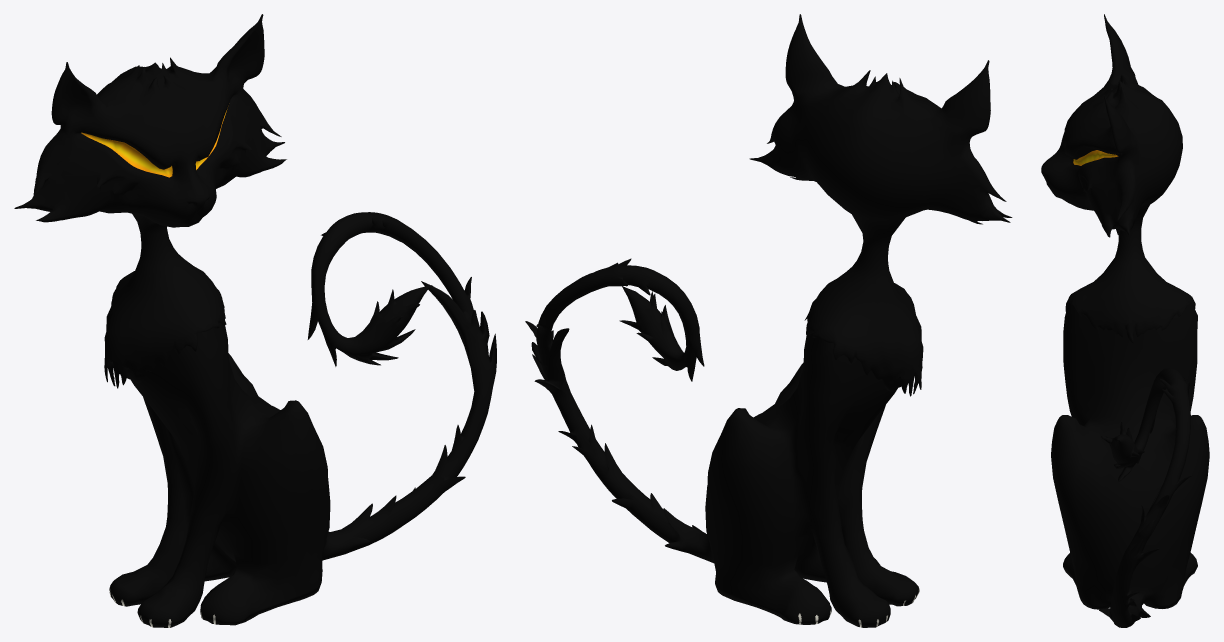
The model's file is mycat3d.glb.
3 renders of one model, left to right at view 1: azimuth 30°, elevation 25°; view 2: azimuth 150°, elevation 25°; view 3: azimuth 270°, elevation 25°, orthographic. The views are drawn at different scales.
Parts seen in each view (by area): view 1: node_id38; view 2: node_id38; view 3: node_id38.
Boxes of the visible parts, x1,y1,x2,y2 form: node_id38: (14, 14, 496, 627); node_id38: (525, 14, 1012, 627); node_id38: (1041, 14, 1209, 627).
Size of the model in its own units: 0.3263 by 0.3705 by 0.1148.
1 material, 1 textured.
